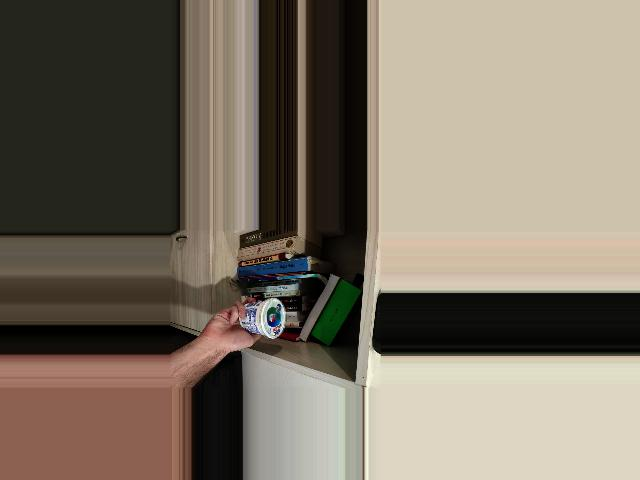cotage: (231, 297, 287, 336)
